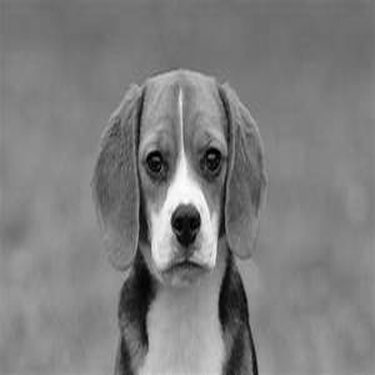dog: (75, 62, 269, 374)
